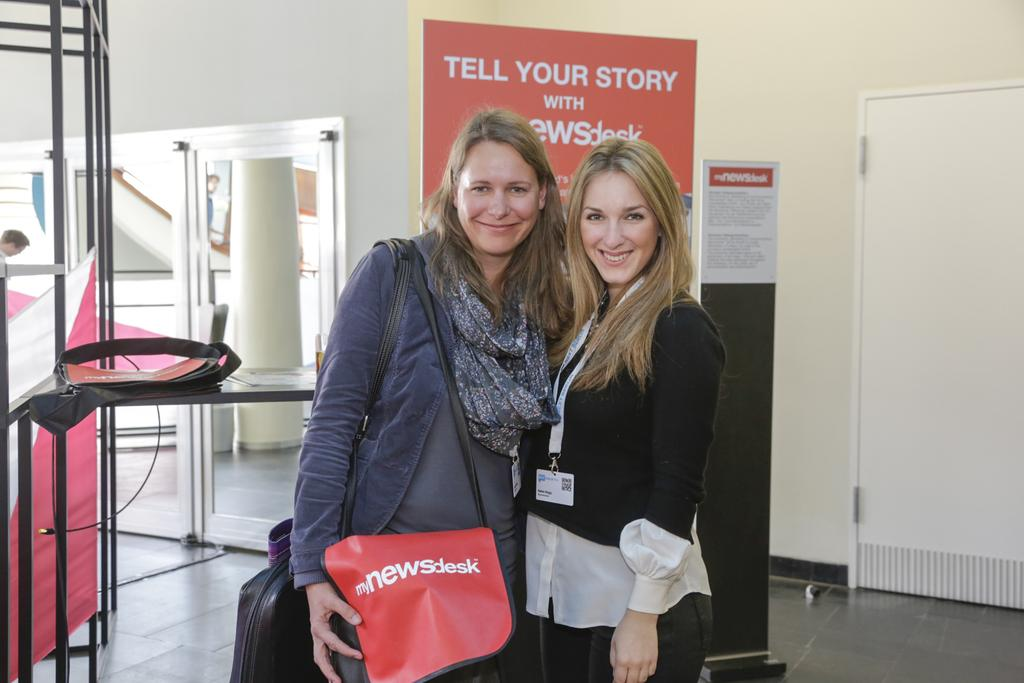Luggage-and-bags: (221, 232, 413, 682), (319, 257, 520, 682)
